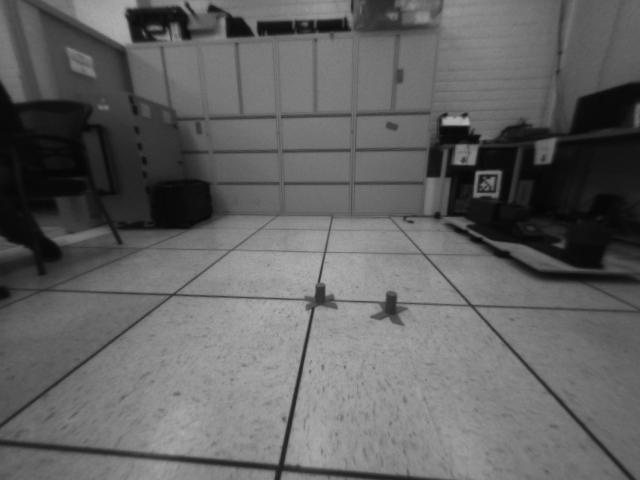X: (369, 288, 409, 327), (302, 281, 338, 312)
